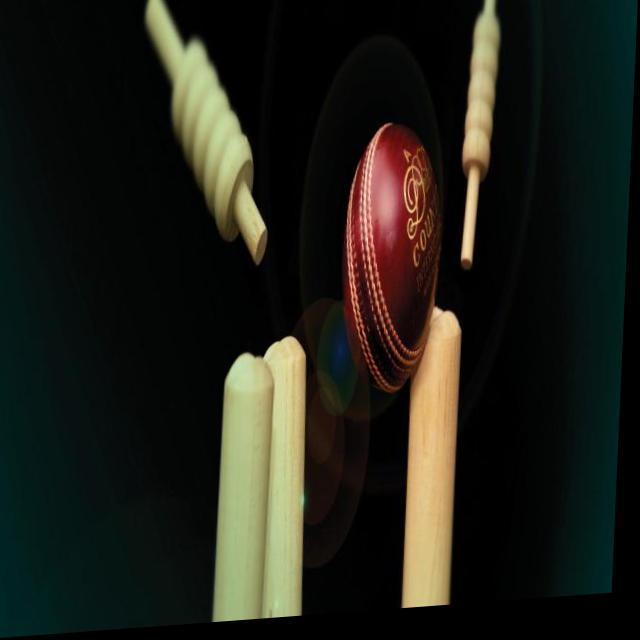cricket ball: (344, 130, 444, 401)
